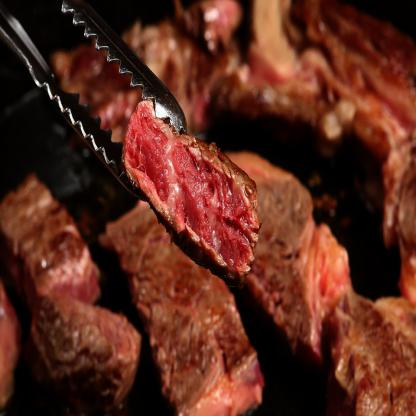Carne: (0, 164, 140, 415), (99, 190, 264, 400), (120, 89, 258, 274), (328, 280, 416, 416)
